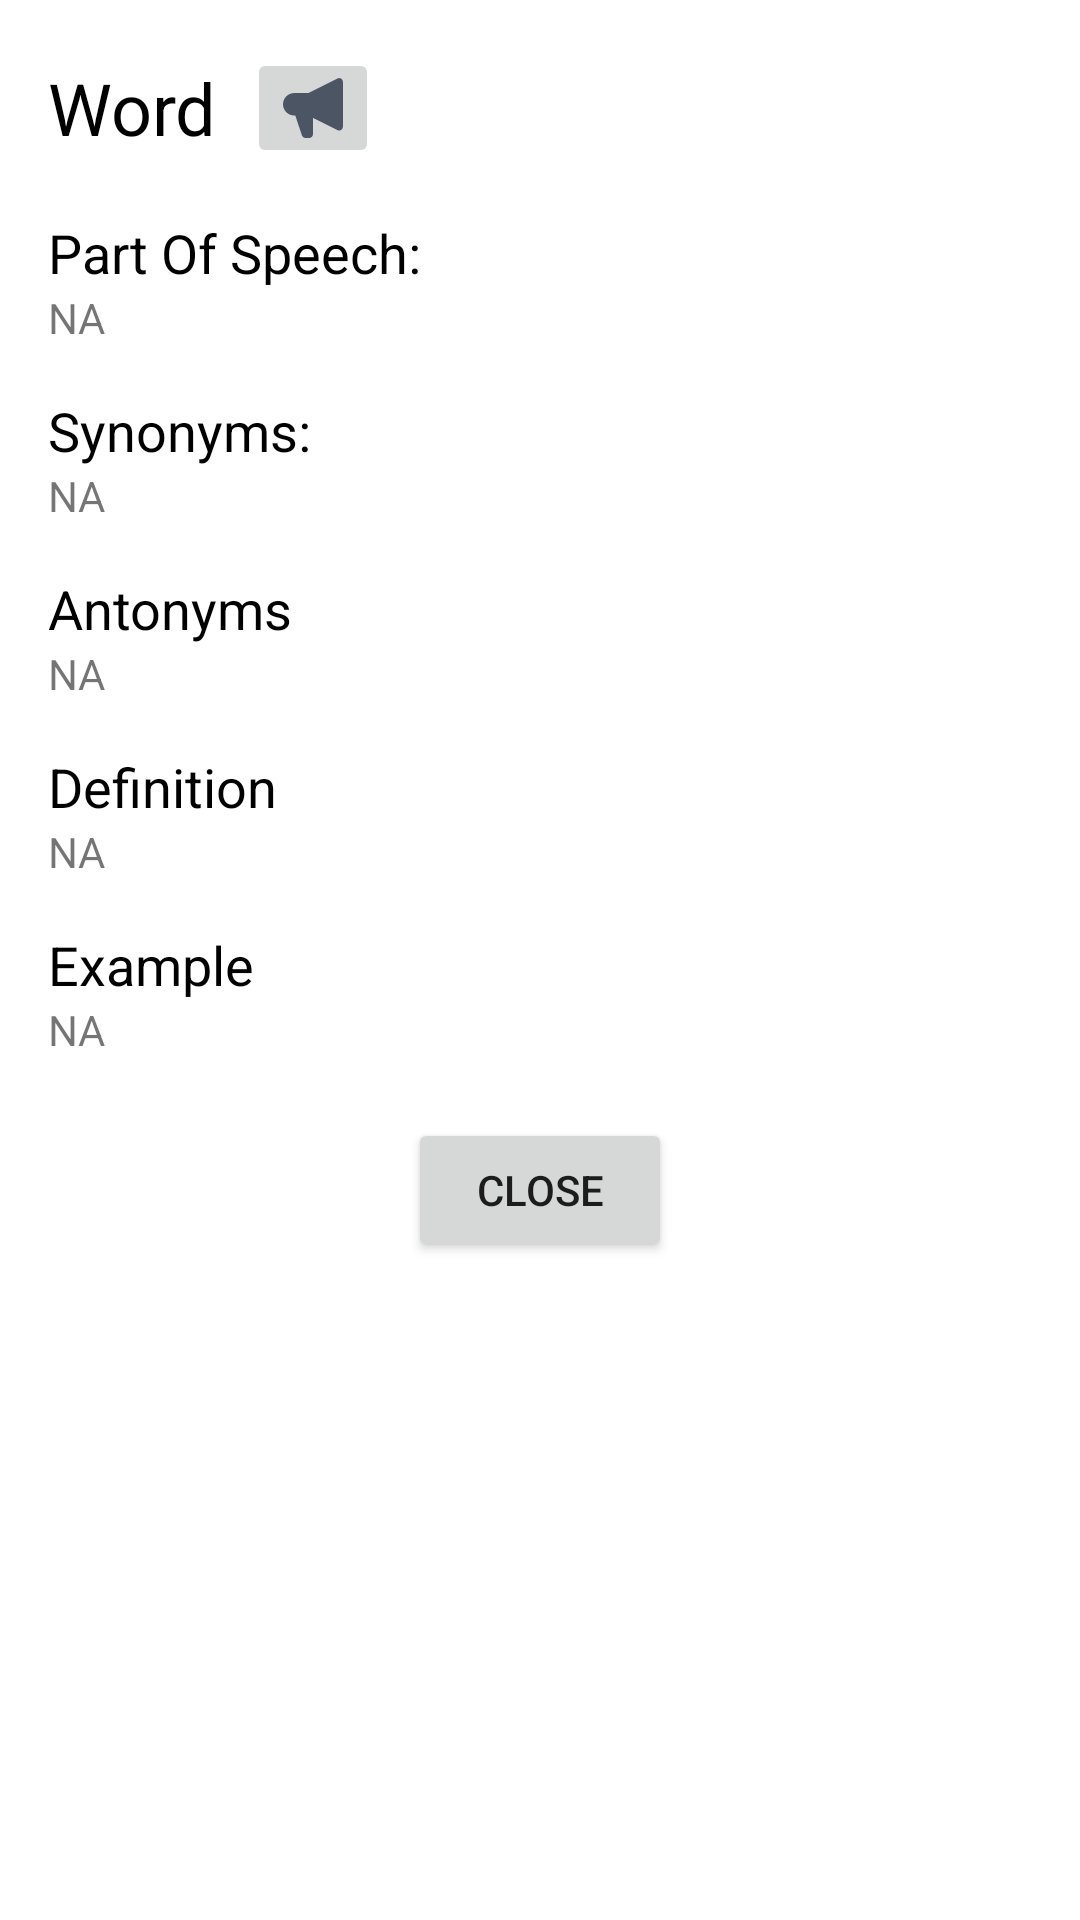

Icons on this 1080px×1920px Android screen, each with the point to tap as point (x, y):
speaker: point (313, 108)
